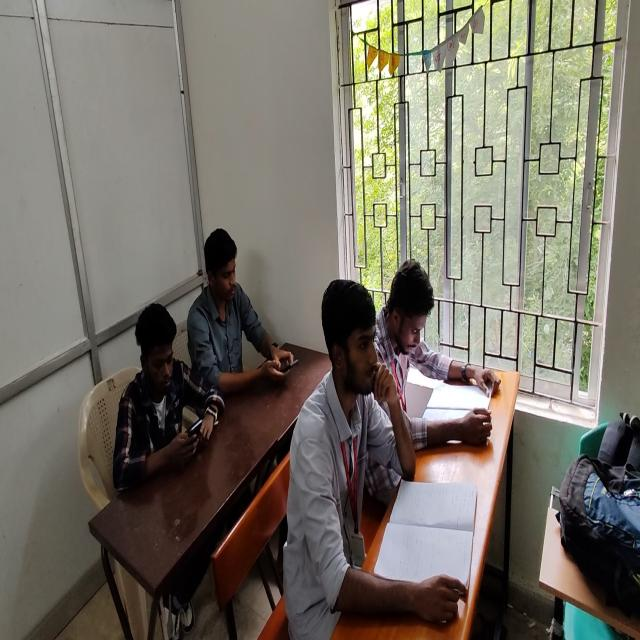reading: (288, 276, 440, 637), (378, 254, 504, 484)
using_mobile: (112, 301, 229, 492), (186, 229, 290, 406)
